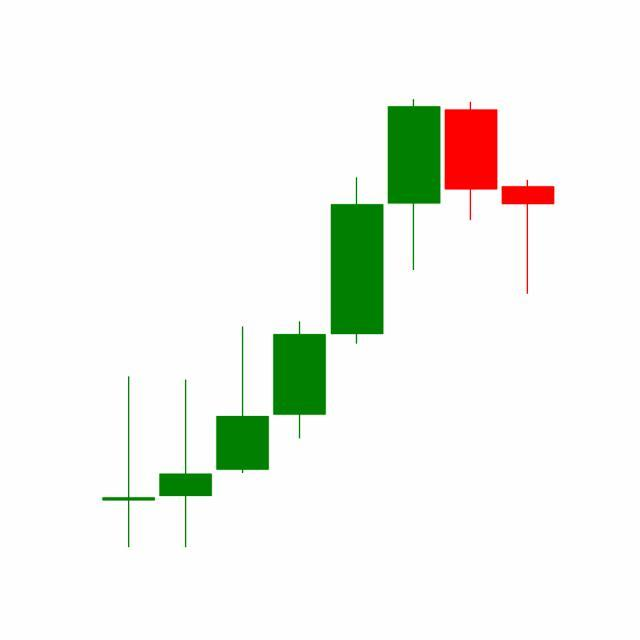Hikkake Pattern: (270, 99, 555, 444)
